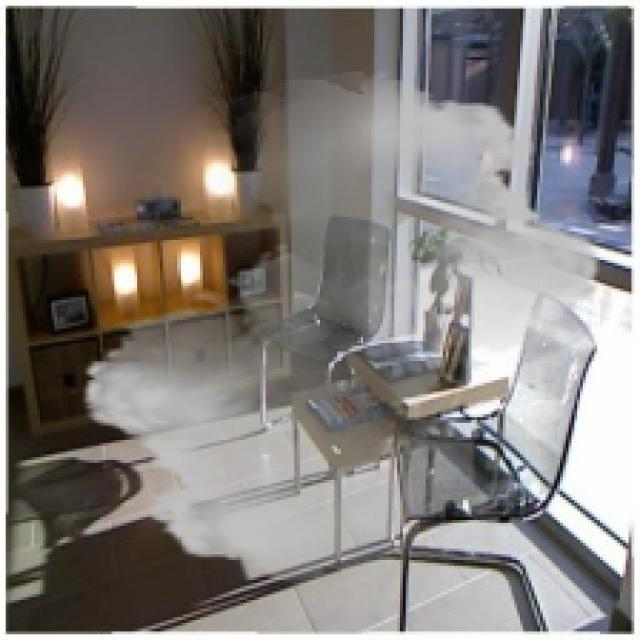Smoke: (65, 71, 618, 588)
